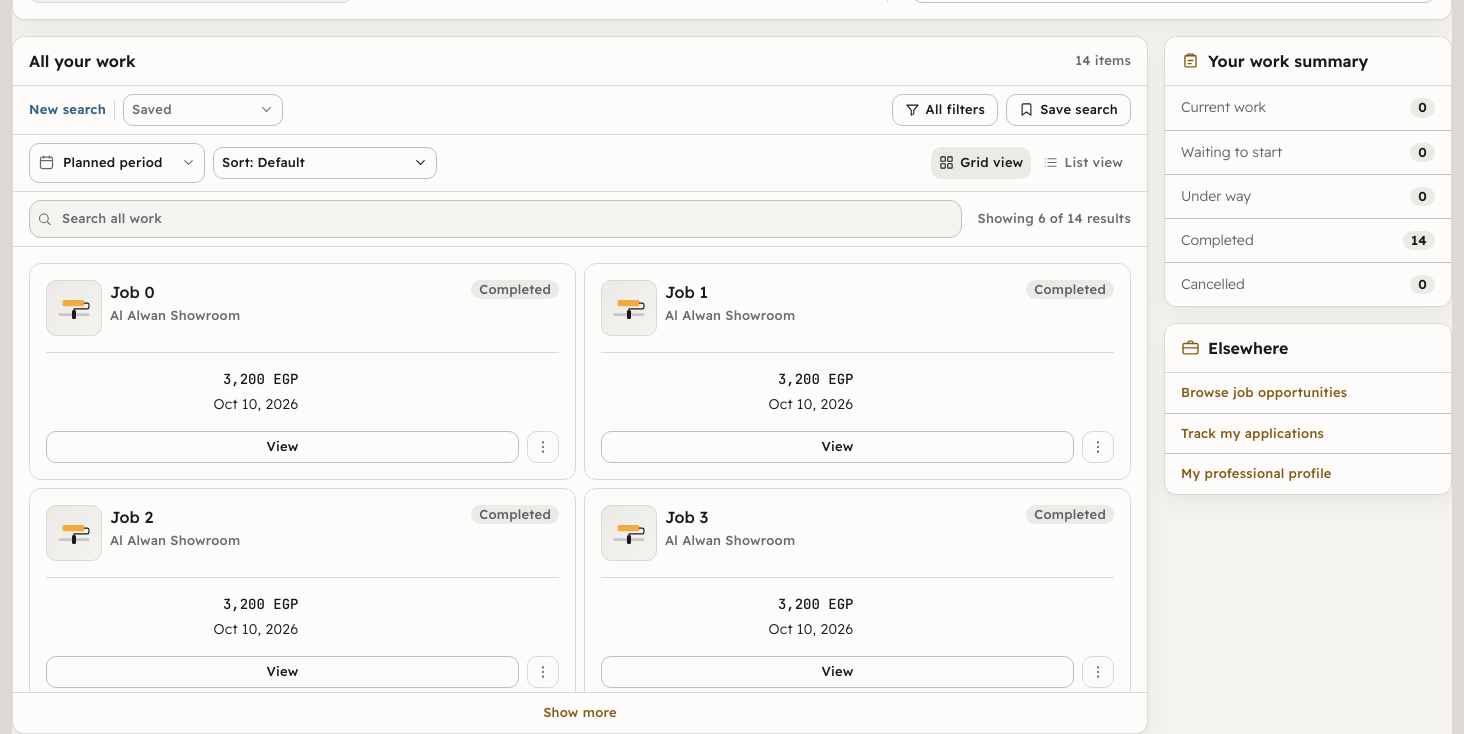
production My Work — one approved presentation, only real capabilities › REAL paged append — the next page of the same question, loaded and appended › Show more loads the next page and appends it — not a navigation
(page scrolled)
Step 1. Click the button "Show more" → (580, 713), box [13,693,1147,733]
(page scrolled)
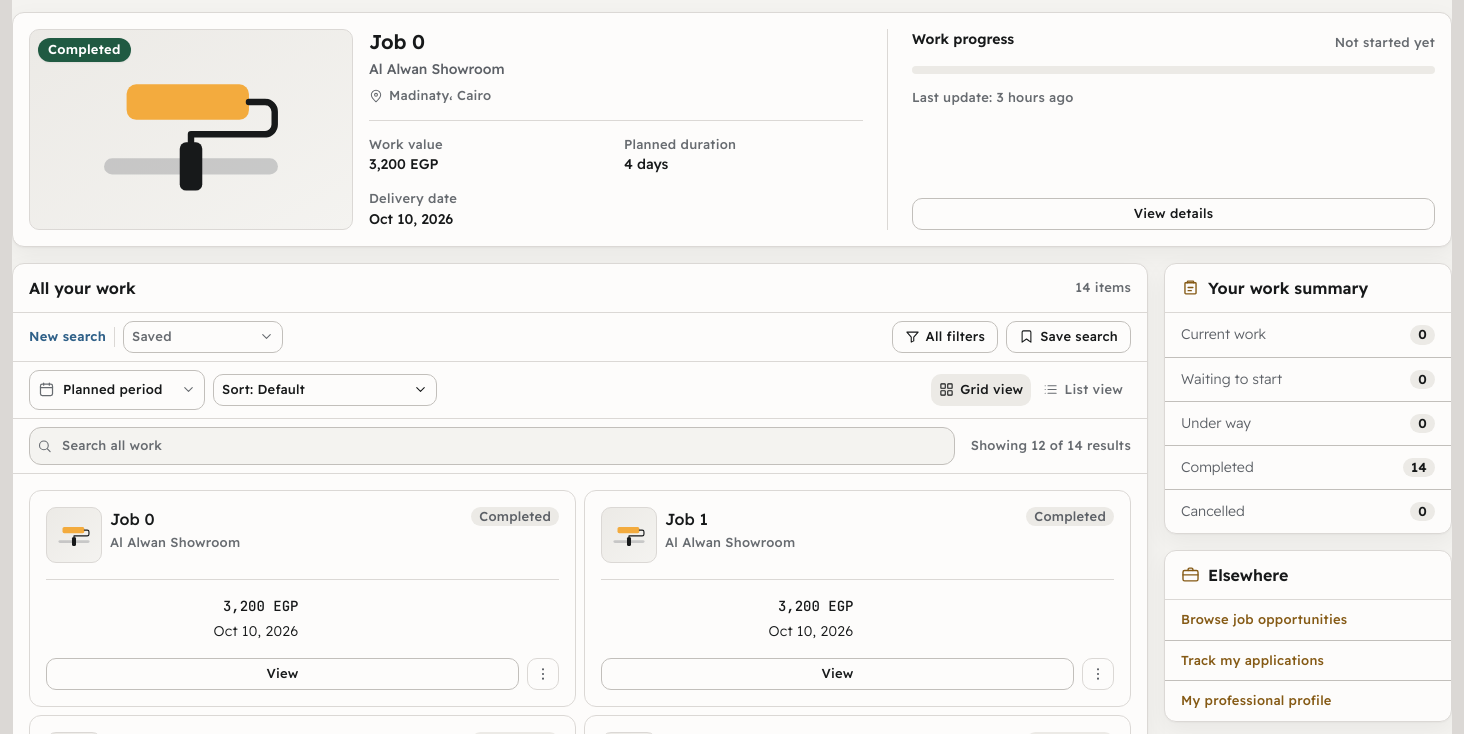
Check: the heading "Job 0" is shown, box [369,29,425,54]
Check: the text "Showing 12 of 14 results" is shown, box [971,438,1131,454]
